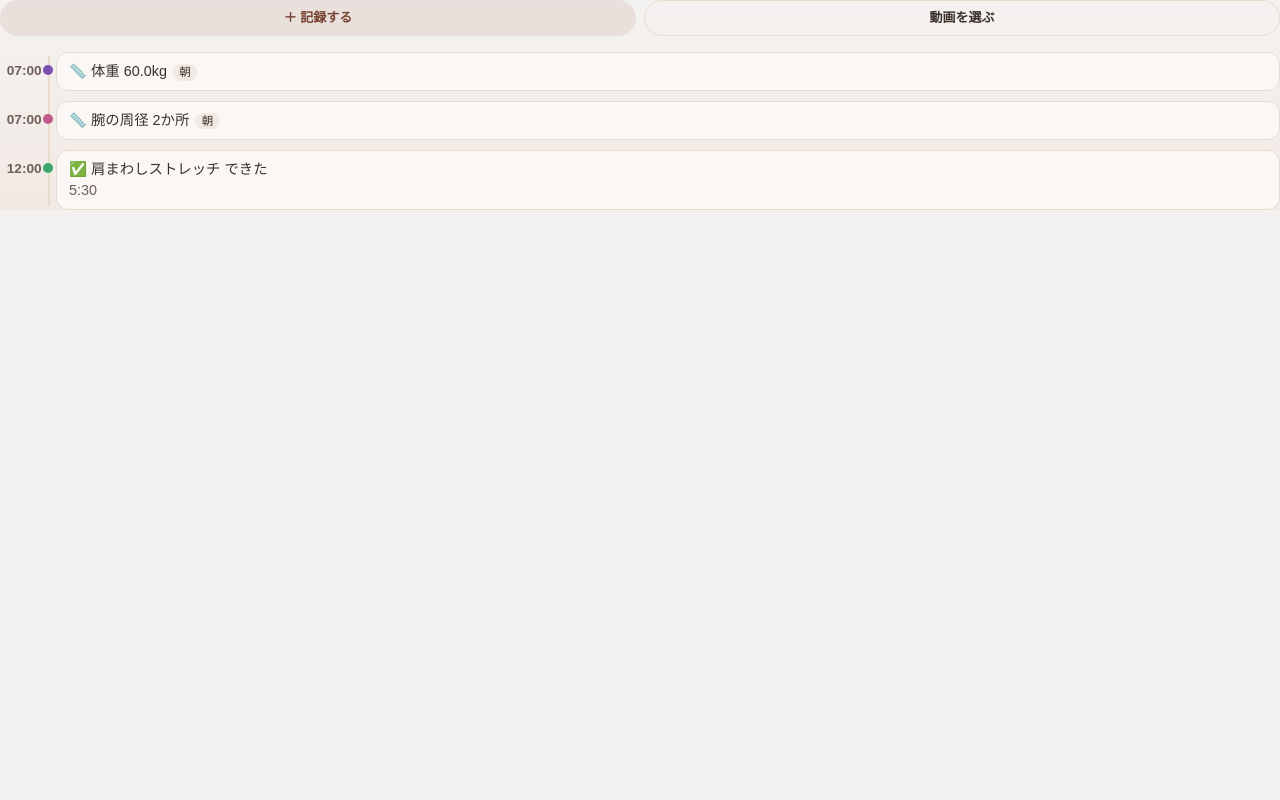
Test: TimelineSection › shows a body and a circumference record at the same time as separate rows
The width and height of the screenshot is (1280, 800).
Check: the button "📏 体重 60.0kg" does not show "周径"
Click the button "📏 腕の周径 2か所 朝".
click(129, 120)  # box left=56, top=101, right=1279, bottom=140
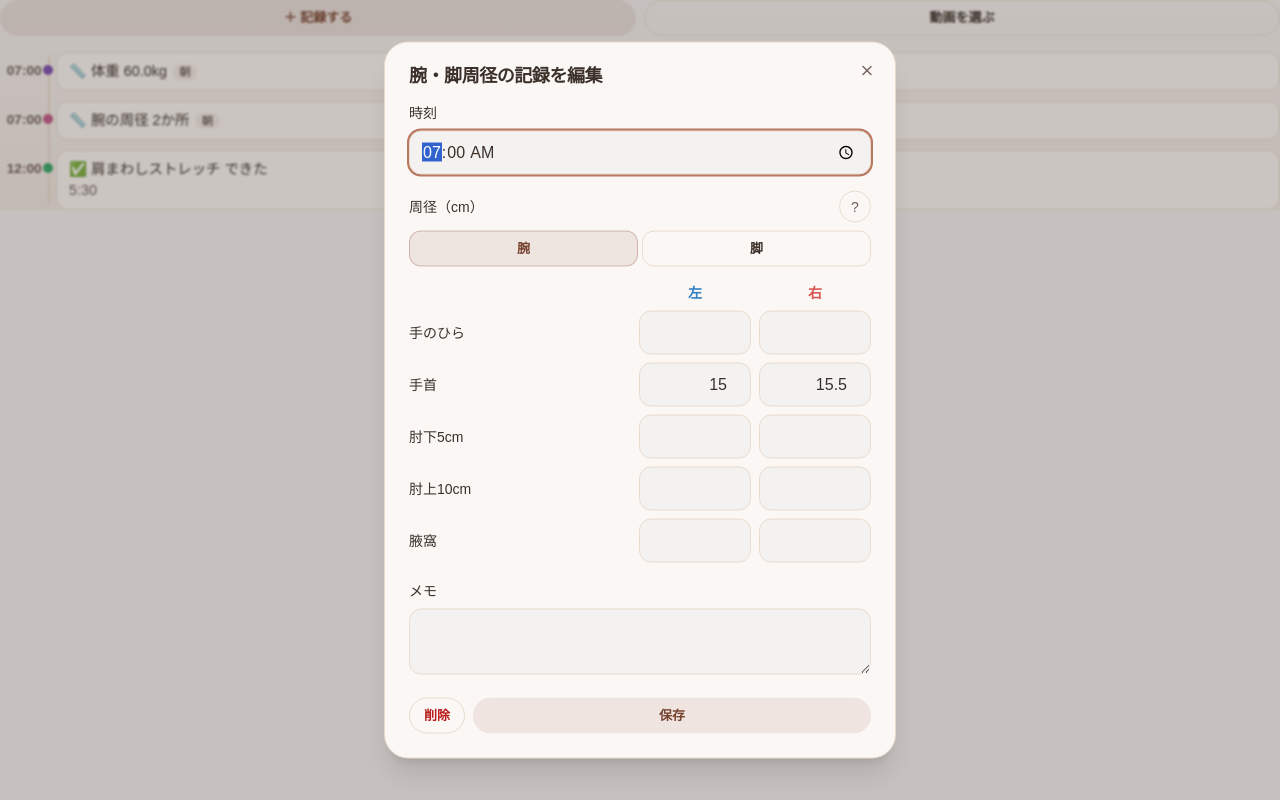
Check: the heading "腕・脚周径の記録を編集" is shown, box left=409, top=66, right=602, bottom=86
Check: the number field named "手首 左" holds "15", box left=639, top=362, right=751, bottom=406
